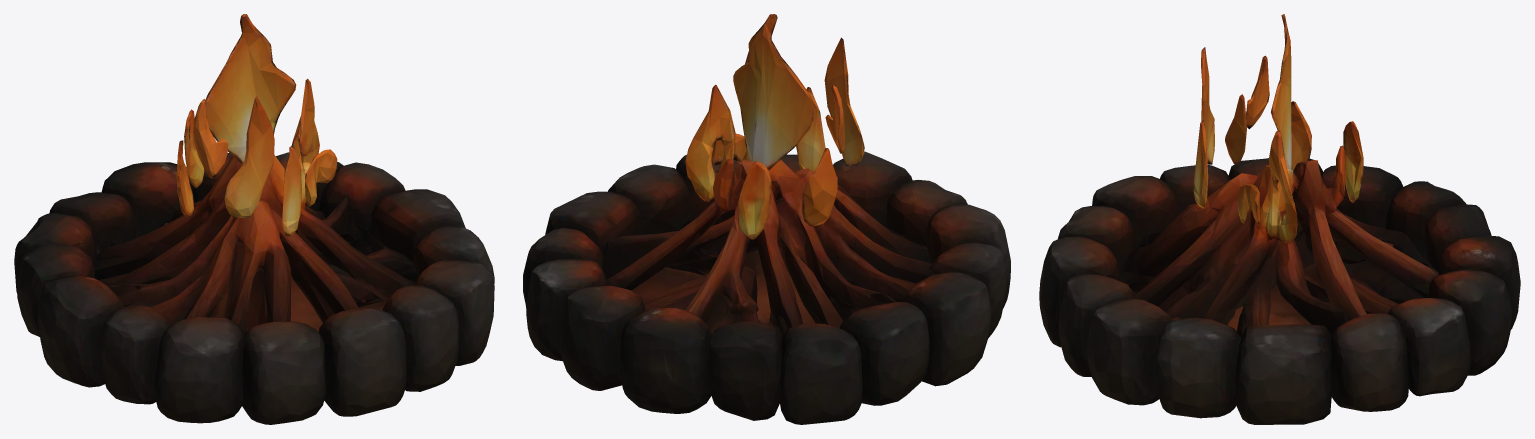
The model's file is beach-firepit.glb.
The picture shows the model from 3 angles, left to right: view 1: azimuth 30°, elevation 25°; view 2: azimuth 150°, elevation 25°; view 3: azimuth 270°, elevation 25°; orthographic projection.
Parts seen in each view (by area): view 1: world; view 2: world; view 3: world.
Boxes of the visible parts, x1,y1,x2,y2 form: world: (14, 14, 494, 424); world: (523, 14, 1010, 424); world: (1039, 14, 1520, 424).
Size of the model in its own units: 0.9808 by 0.7178 by 0.9961.
Materials: 1 (1 with a texture image).
